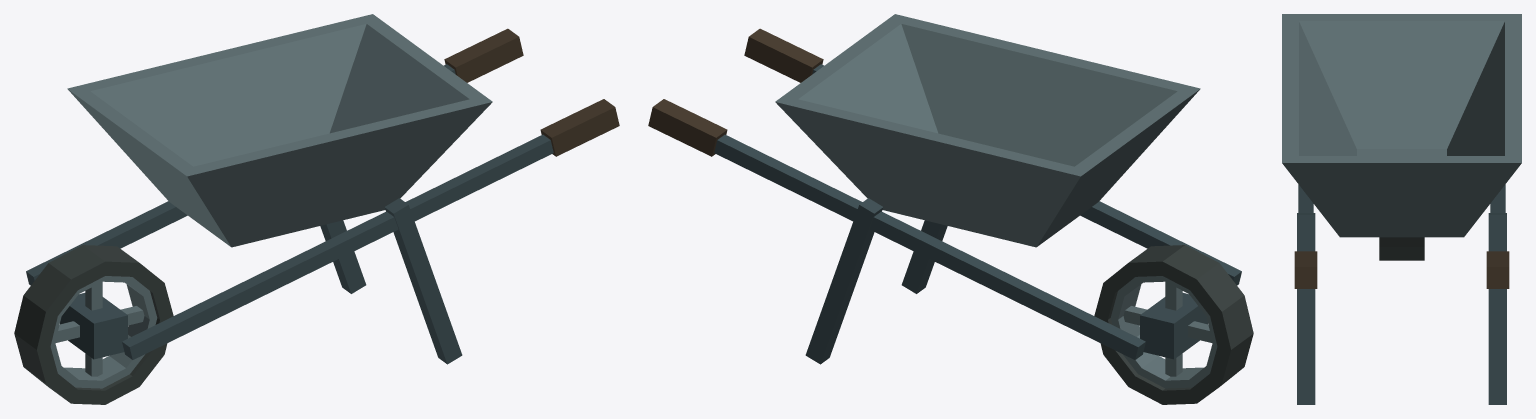
File: Prop_Daily_Wheelbarrow_001_LOD1.glb
The picture shows the model from 3 angles, left to right: view 1: azimuth 30°, elevation 25°; view 2: azimuth 150°, elevation 25°; view 3: azimuth 270°, elevation 25°; orthographic projection.
Parts seen in each view (by area): view 1: Prop_Daily_Wheelbarrow_001_LOD1; view 2: Prop_Daily_Wheelbarrow_001_LOD1; view 3: Prop_Daily_Wheelbarrow_001_LOD1.
Part boxes in pixels (left/top/right/bottom): Prop_Daily_Wheelbarrow_001_LOD1: left=14, top=14, right=619, bottom=404; Prop_Daily_Wheelbarrow_001_LOD1: left=648, top=14, right=1253, bottom=404; Prop_Daily_Wheelbarrow_001_LOD1: left=1282, top=14, right=1521, bottom=404.
Bounding box in the file's own units: 2.21 × 1.01 × 0.85.
